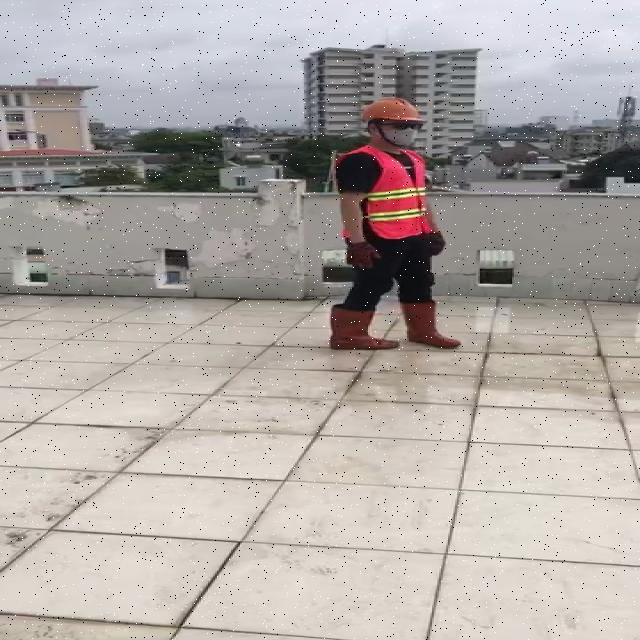Hard_hat: (358, 94, 427, 130)
Person: (322, 92, 461, 414)
Vest: (355, 143, 427, 239)
